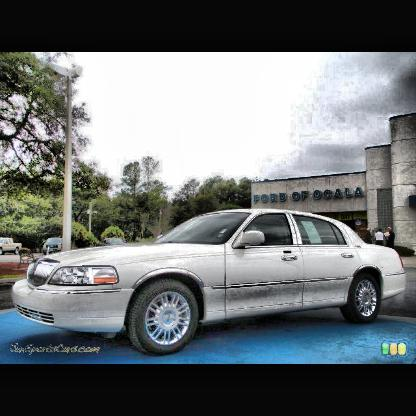Lincoln Town Car Sedan 2011: (11, 206, 407, 351)
